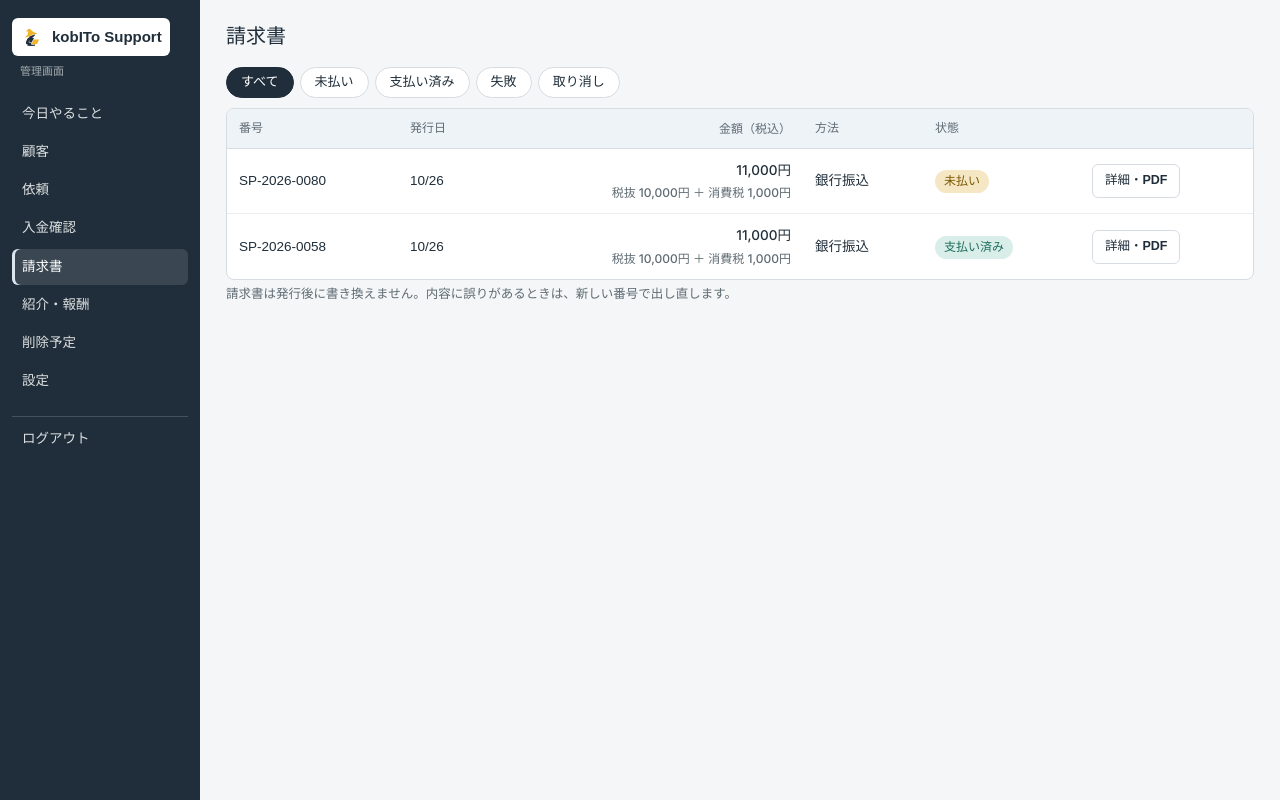
Test case: a07 invoices › lists invoices in a table, splits the amounts and filters by 状態
Expected: the heading "請求書" is shown, [226,22,286,51]
Expected: the column headings read "番号", "発行日", "金額（税込）", "方法", "状態", "", in this order, [227,109,398,148]; [398,109,490,148]; [490,109,803,148]; [803,109,923,148]; [923,109,1080,148]; [1080,109,1253,148]
Click the button "支払い済み" at (422, 82), box [375,67,470,98]
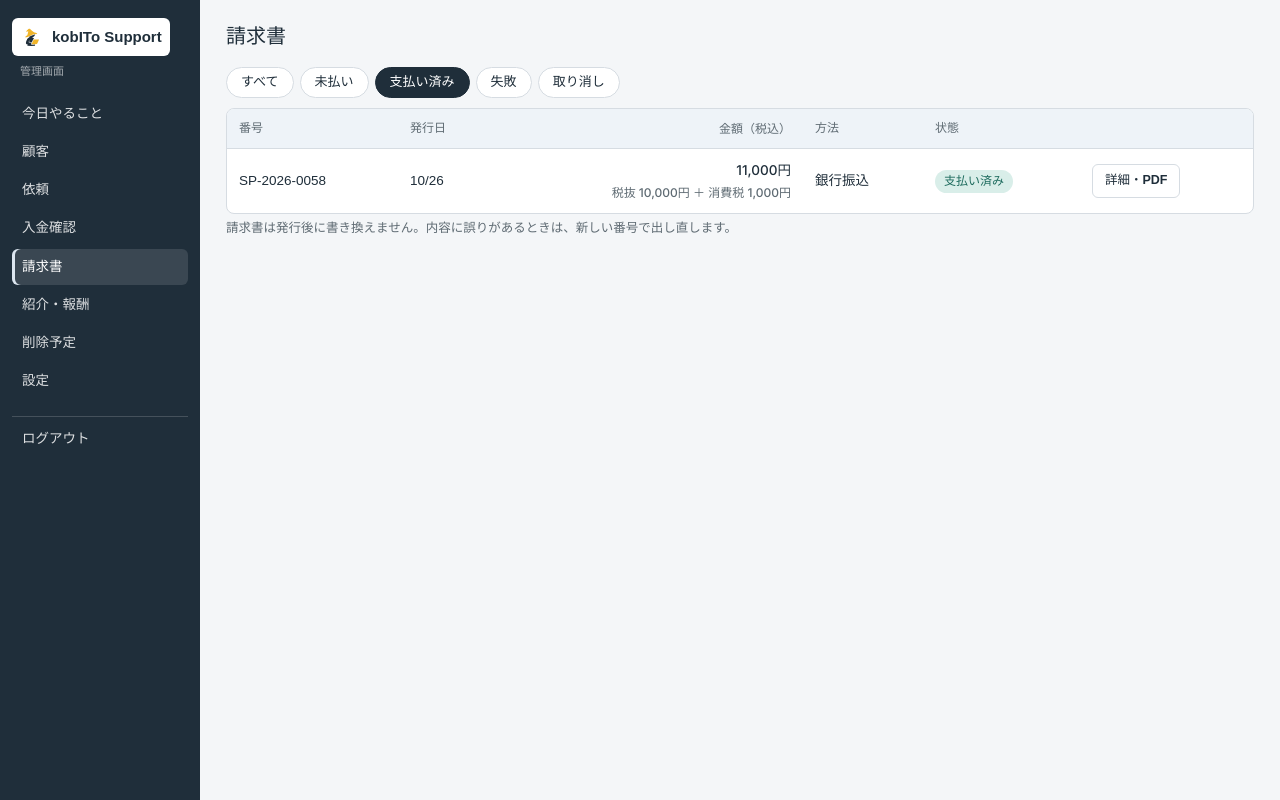
Now the link "SP-2026-0080" is gone
Now the link "SP-2026-0058" is shown, box [239,173,326,188]
